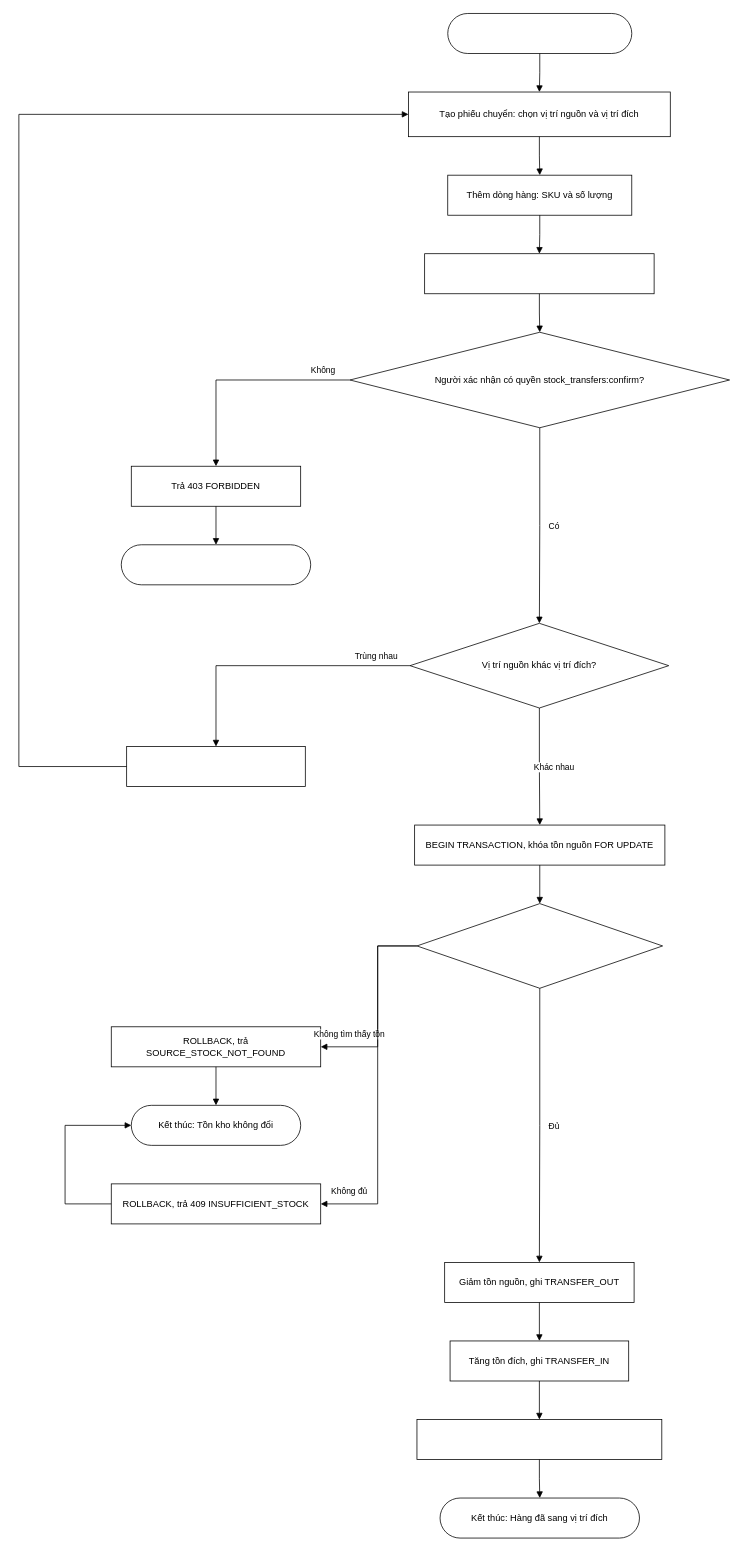
Some shapes in this 743 by 1552 pixel diagram are drawn without their labels. The shapes that lost their labels are listed below. From the top down, each one's centre as x and y in pixels, then its label:
At (x=539, y=33): "Bắt đầu: Có yêu cầu chuyển hàng".
At (x=539, y=273): "POST /stock-transfers, phiếu lưu ở DRAFT".
At (x=216, y=564): "Kết thúc: Phiếu giữ nguyên DRAFT".
At (x=215, y=766): "Trả 422 TRANSFER_SAME_LOCATION".
At (x=539, y=945): "Tồn khả dụng tại nguồn đủ?".
At (x=539, y=1439): "Đổi trạng thái phiếu sang CONFIRMED, COMMIT".
